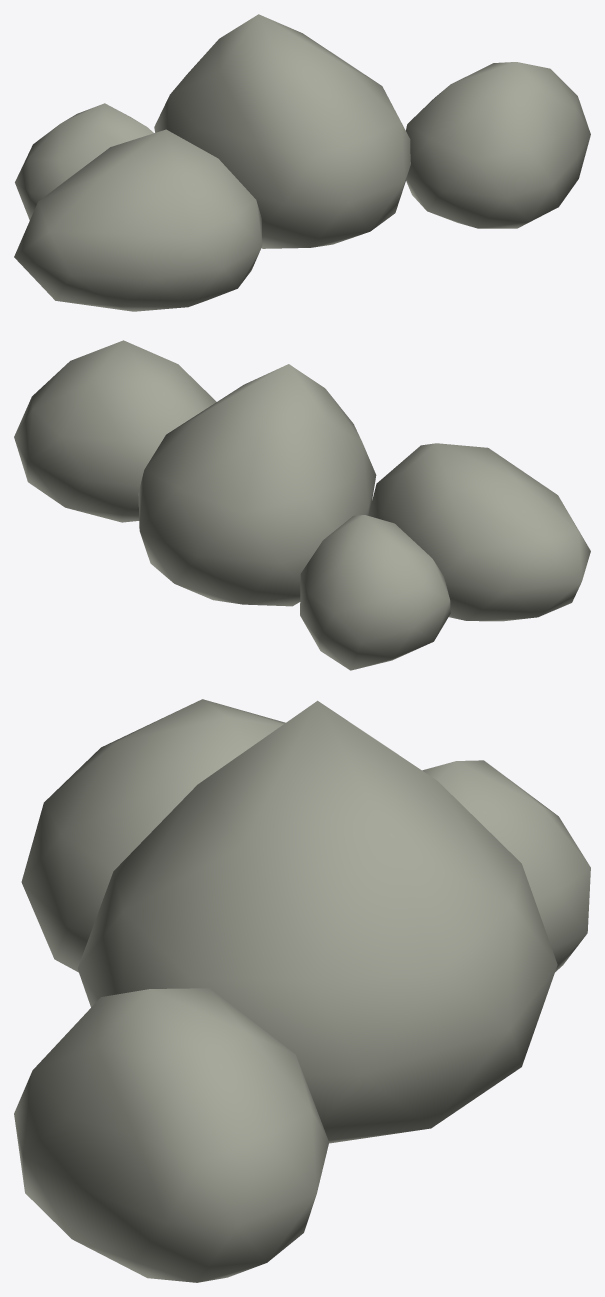
The model's file is Stone_02.fbx.
3 renders of one model, top to bottom at view 1: azimuth 30°, elevation 25°; view 2: azimuth 150°, elevation 25°; view 3: azimuth 270°, elevation 25°, orthographic. The views are drawn at different scales.
Visible parts, largest first — view 1: Stone_02; view 2: Stone_02; view 3: Stone_02.
Boxes of the visible parts, x1=… form: Stone_02: x1=14, y1=14, x2=590, y2=311; Stone_02: x1=14, y1=340, x2=590, y2=670; Stone_02: x1=14, y1=699, x2=590, y2=1282.
Bounding box in the file's own units: 265 × 137 × 99.22.
